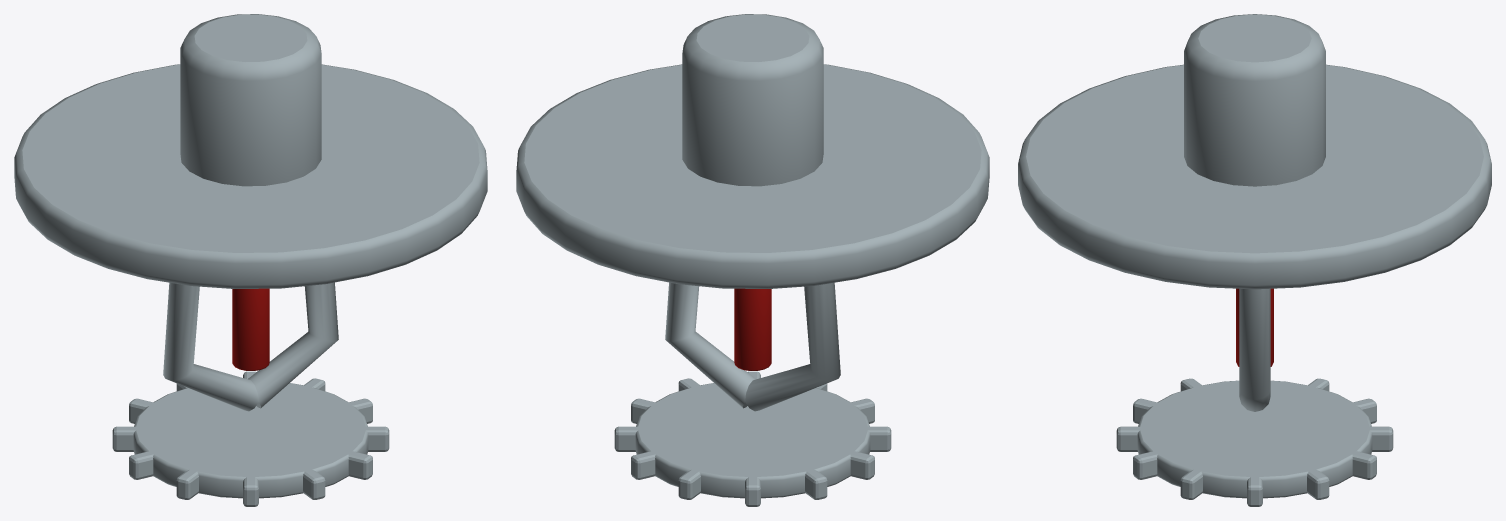
The model's file is OAA_SprinklerHead.fbx.
3 views of the same model, side by side, from view 1: azimuth 30°, elevation 25°; view 2: azimuth 150°, elevation 25°; view 3: azimuth 270°, elevation 25° (orthographic).
Visible parts, largest first — view 1: Body; view 2: Body; view 3: Body.
Part boxes in pixels (box(x1,y1,x2,y2)): Body: box(14, 14, 487, 506); Body: box(516, 14, 989, 506); Body: box(1018, 14, 1491, 506).
Bounding box in the file's own units: 0.06 × 0.0575 × 0.06.
